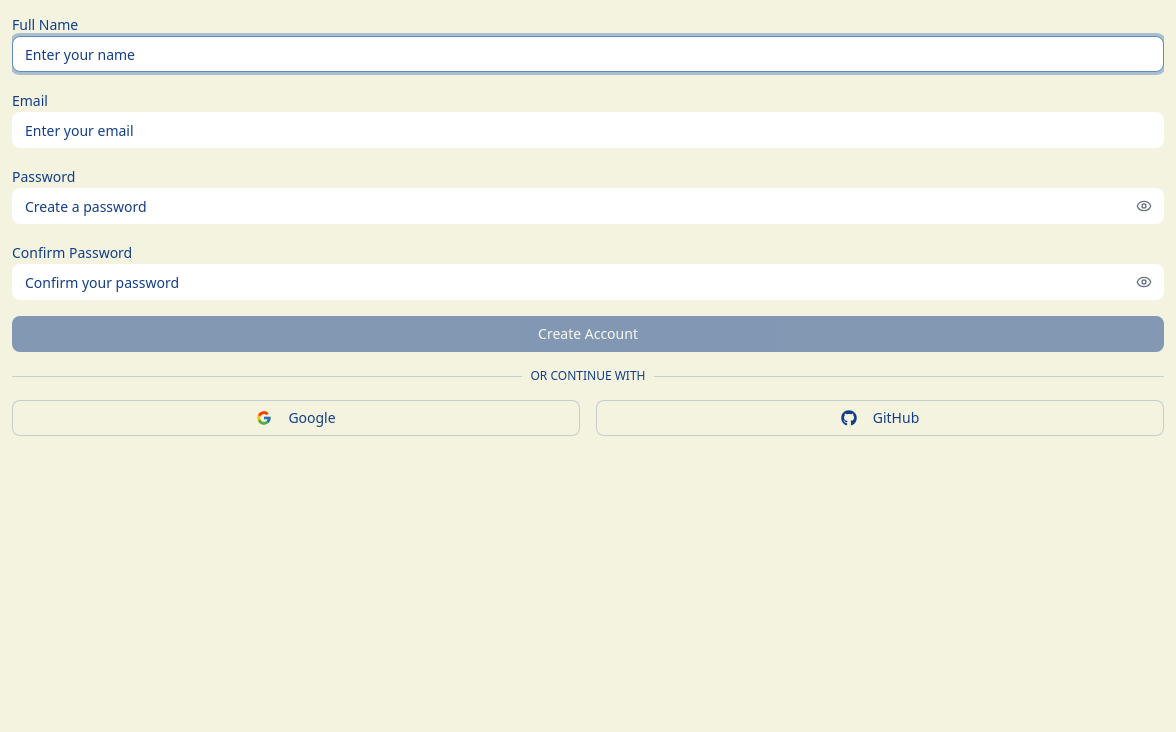
it: SignupForm Component › form submit handles rate limit error (429) and shows resend button
This screenshot has width=1176, height=732.
Step 1. Type "John Doe" into the field with placeholder "Enter your name" → (588,54), box [12,36,1164,72]
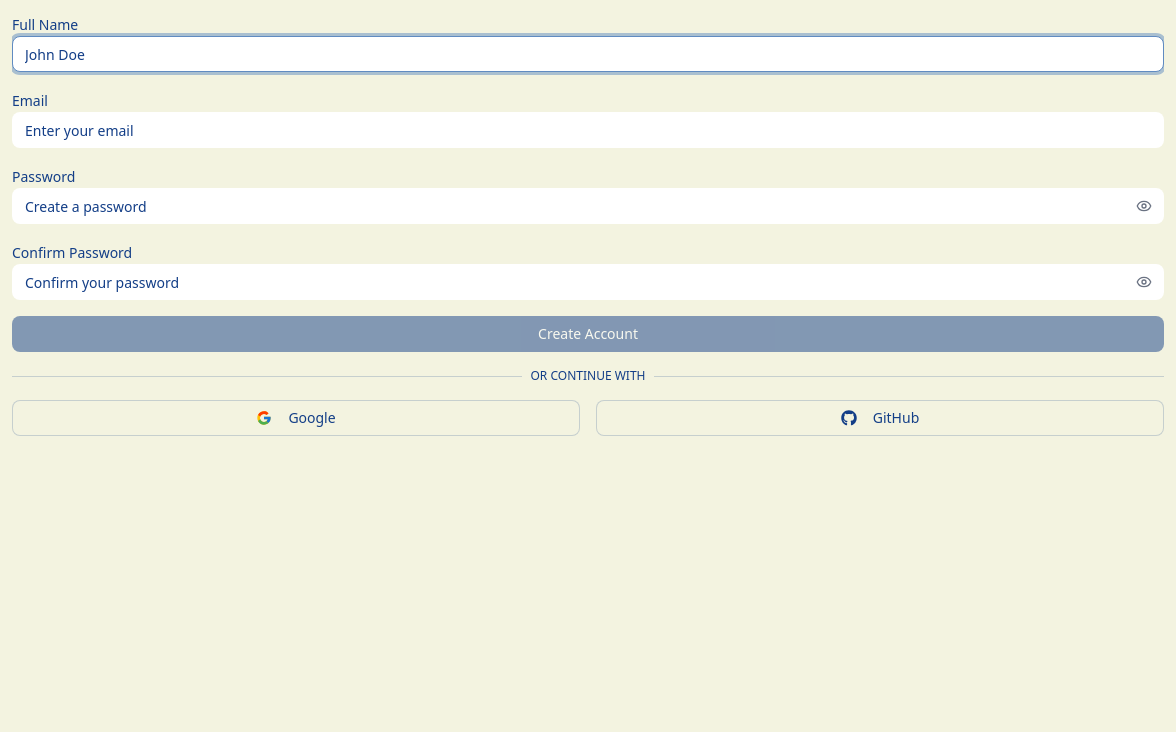
Step 2. Type "test@example.com" into the field with placeholder "Enter your email" → (588,130), box [12,112,1164,148]
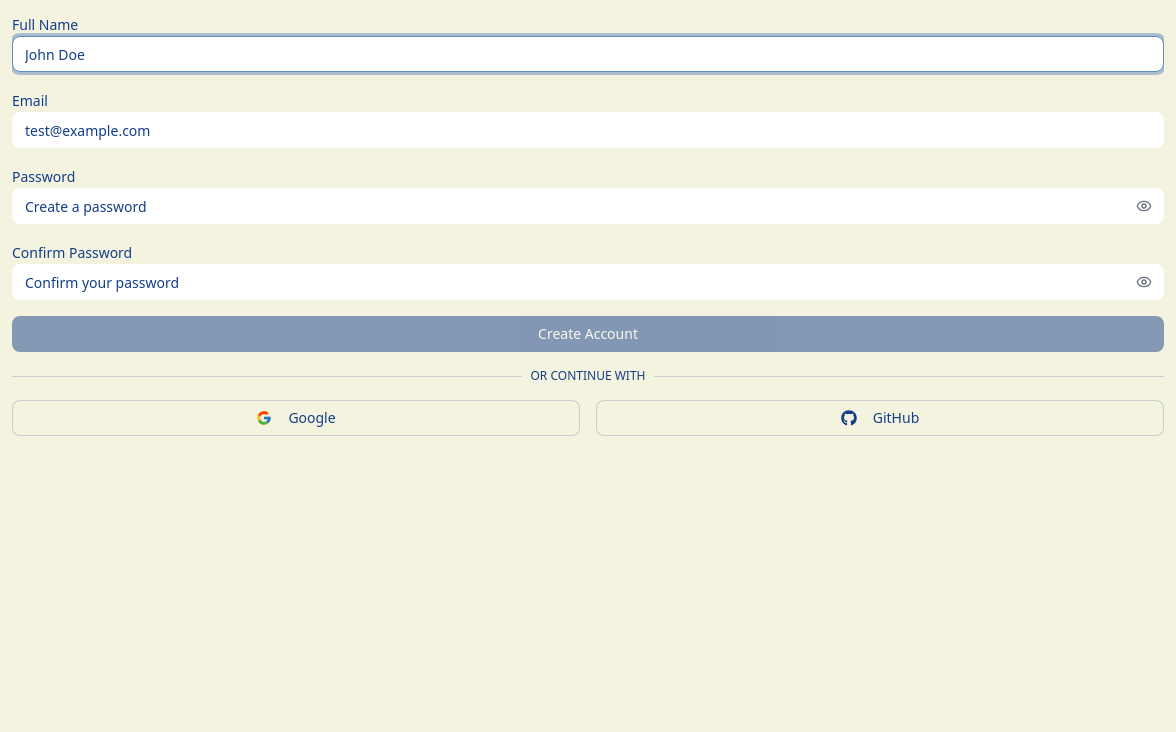
Step 3. Type "password123" into the password field with placeholder "Create a password" → (588,206), box [12,188,1164,224]
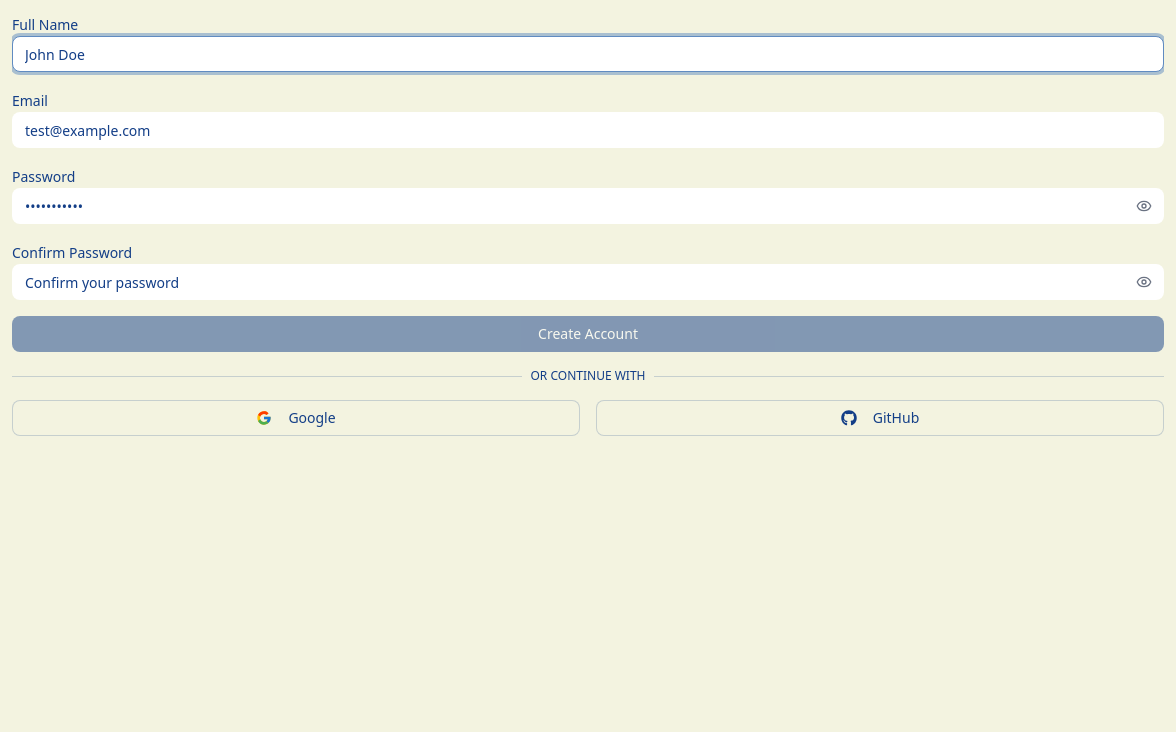
Step 4. Type "password123" into the password field with placeholder "Confirm your password" → (588,282), box [12,264,1164,300]
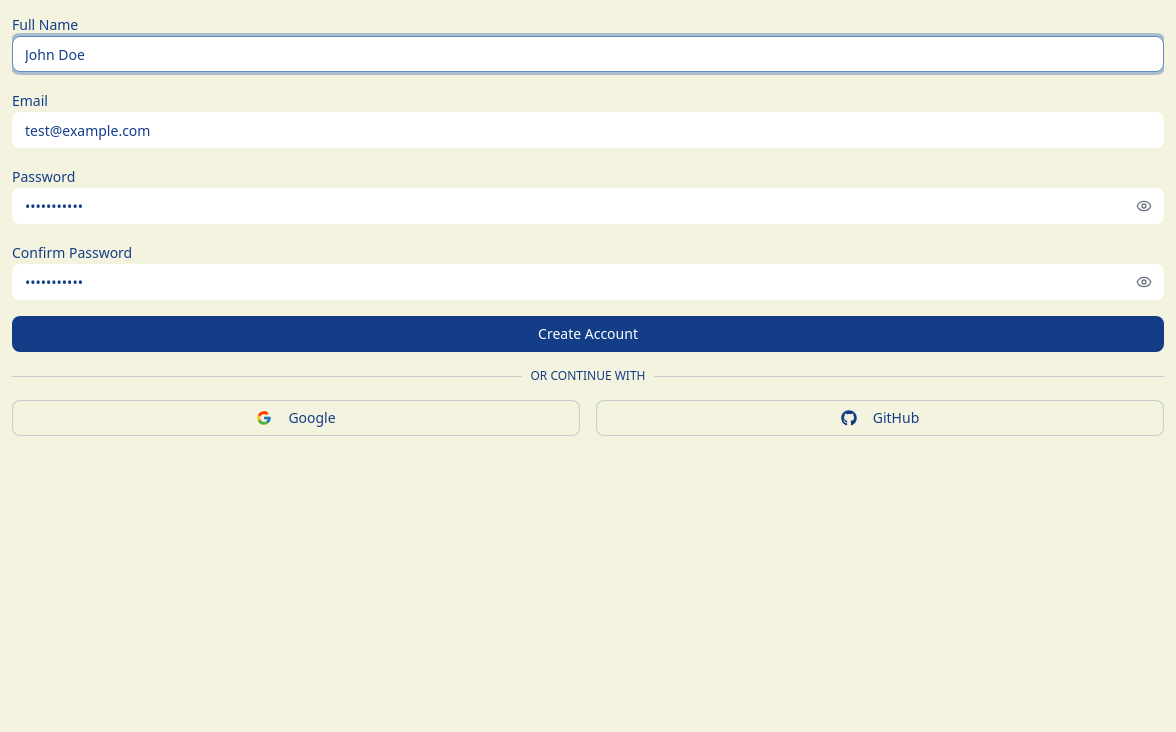
Step 5. Click the button "Create Account" → (588,334), box [12,316,1164,352]
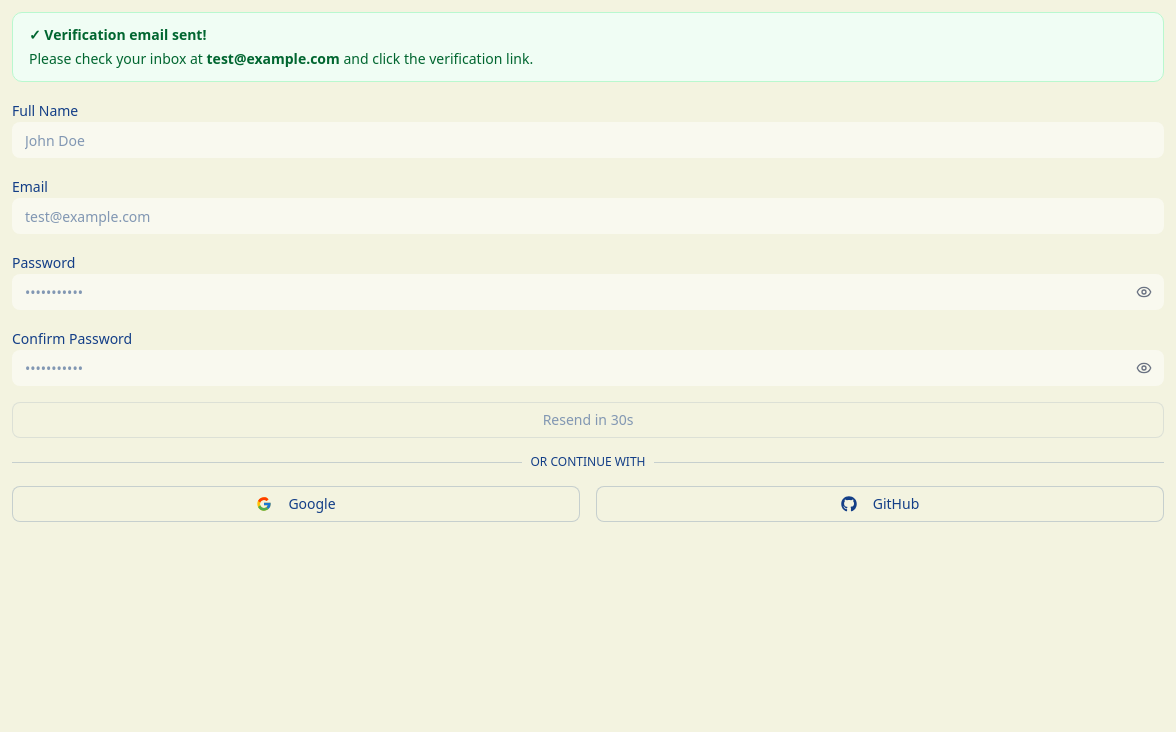
Expected: the element that starts with "✓ Verification email sent!" is shown, [29,25,206,44]
